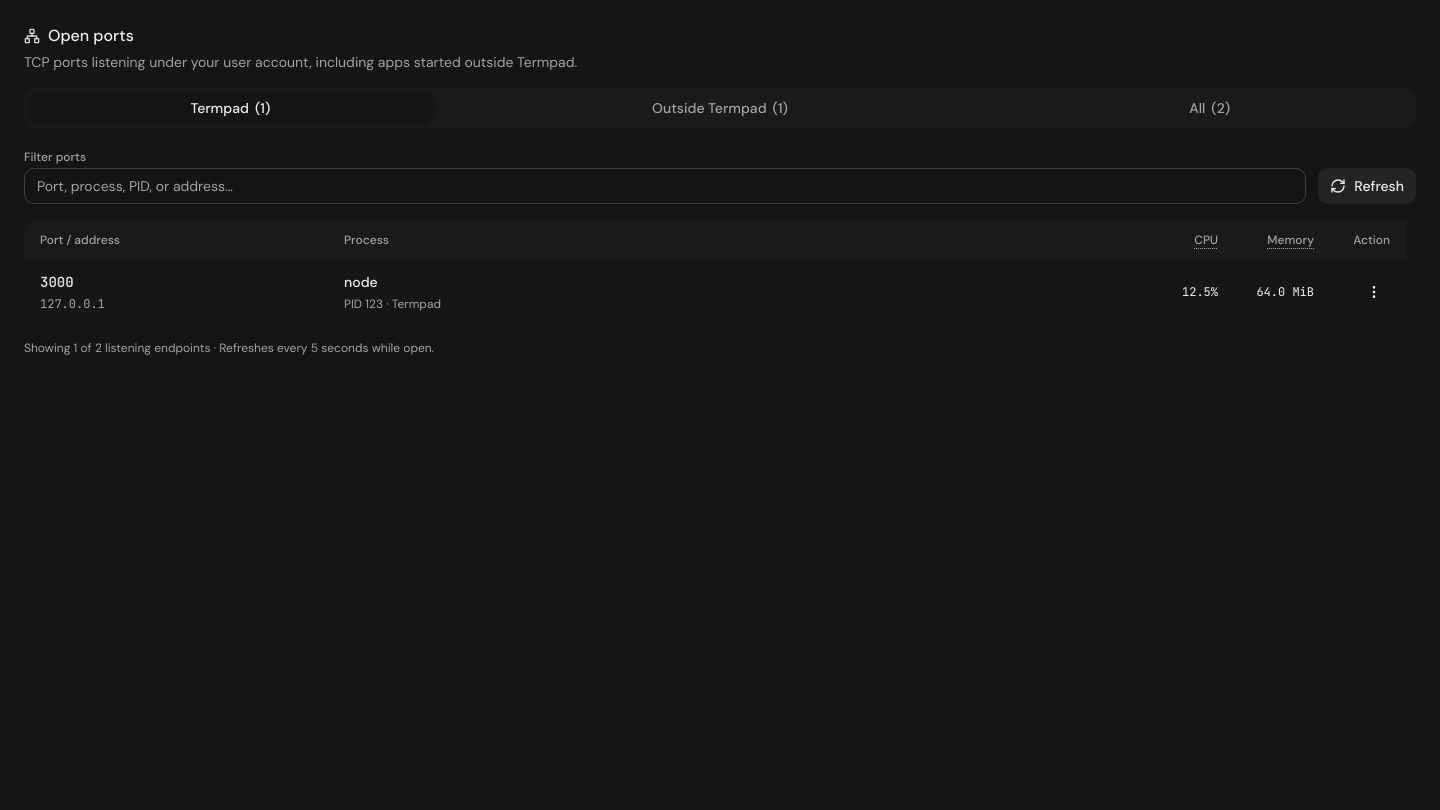
Open ports › keeps the terminal open when stopping fails
This screenshot has width=1440, height=810.
Press Enter in the button named "Actions for node on port 3000 (PID 123)", box [1358,276,1390,308]
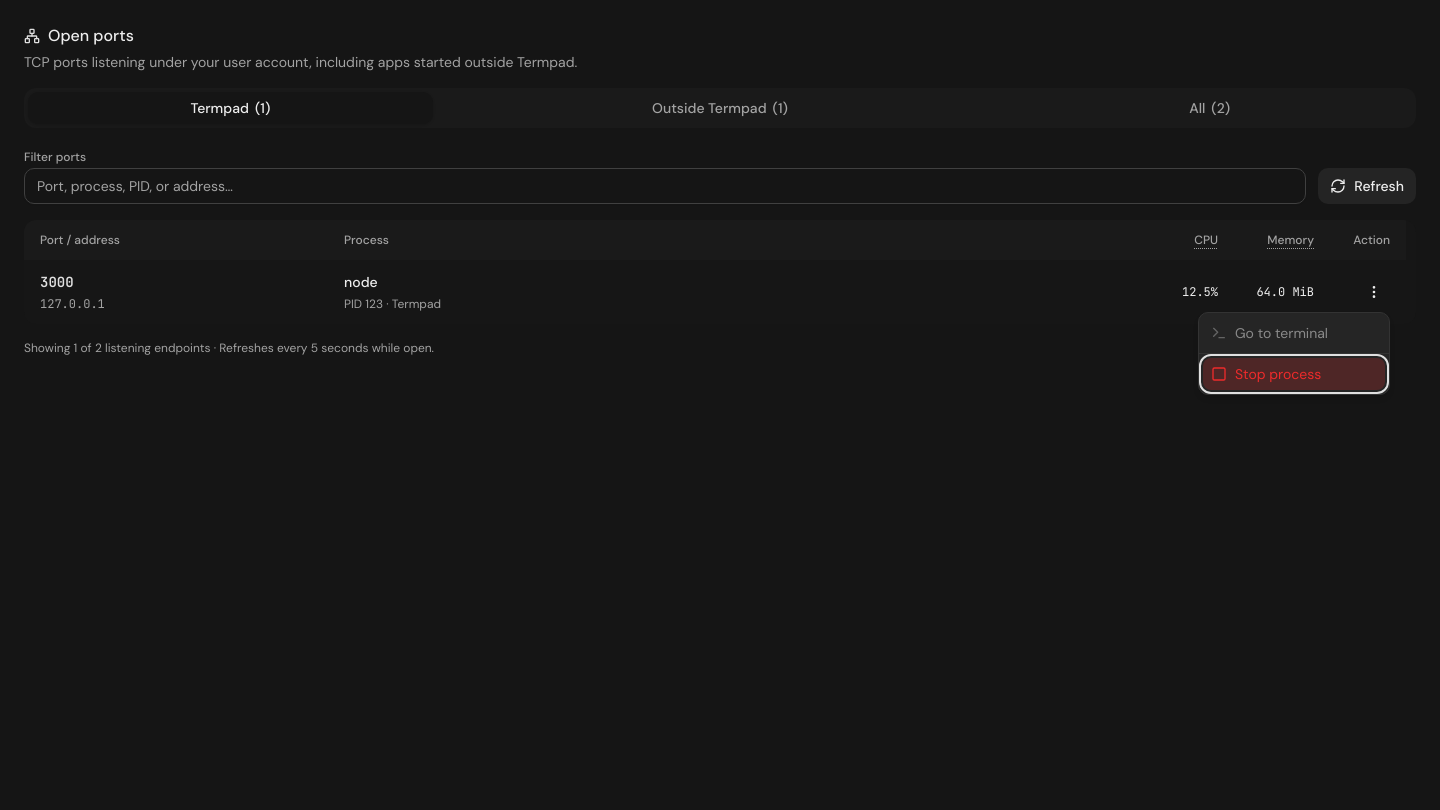
Result: the menu is shown at [1198,312,1390,395]
Click the menu item "Stop process": (1294, 374) [1203,358,1385,390]
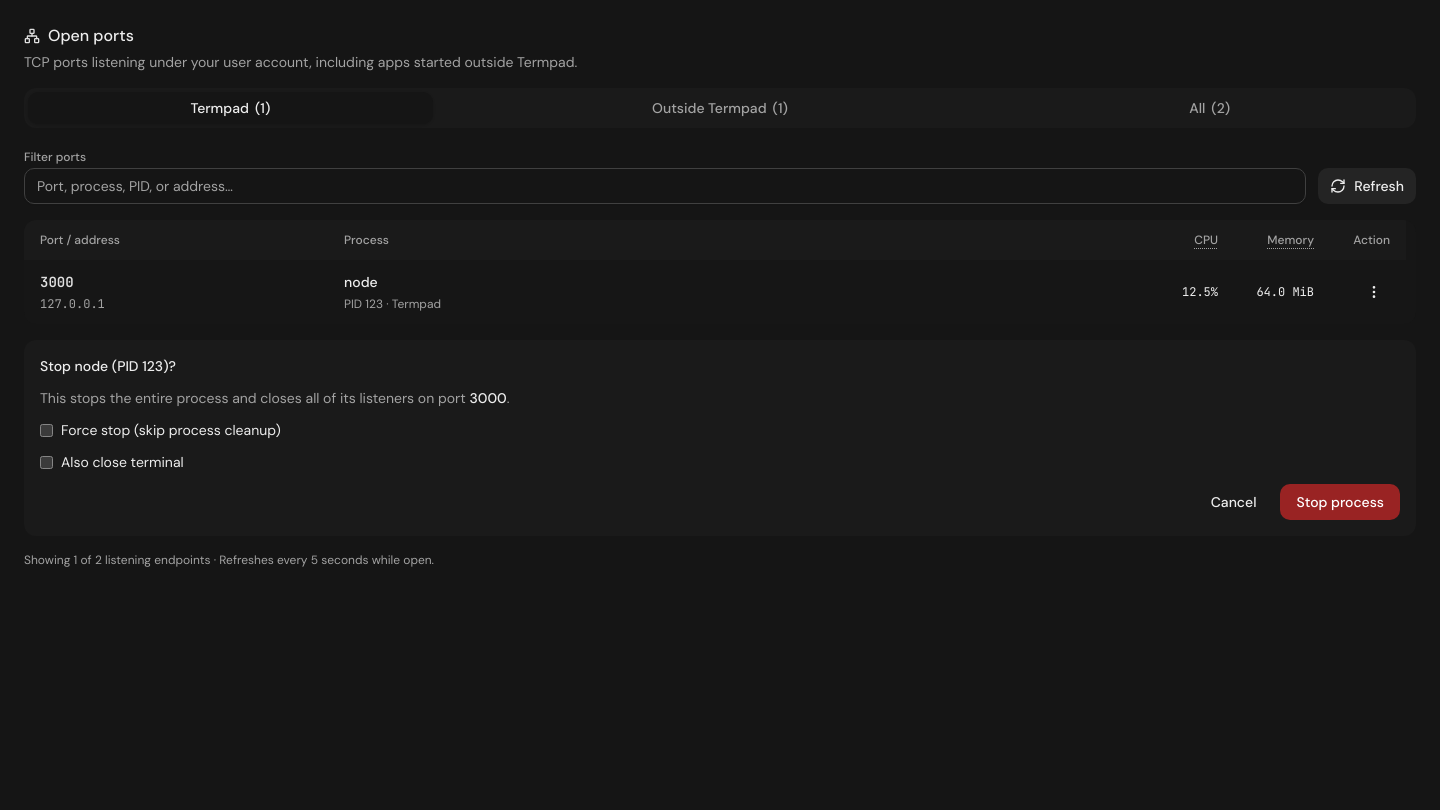
Click the checkbox labelled "Also close terminal": (46, 462) [40,456,53,468]
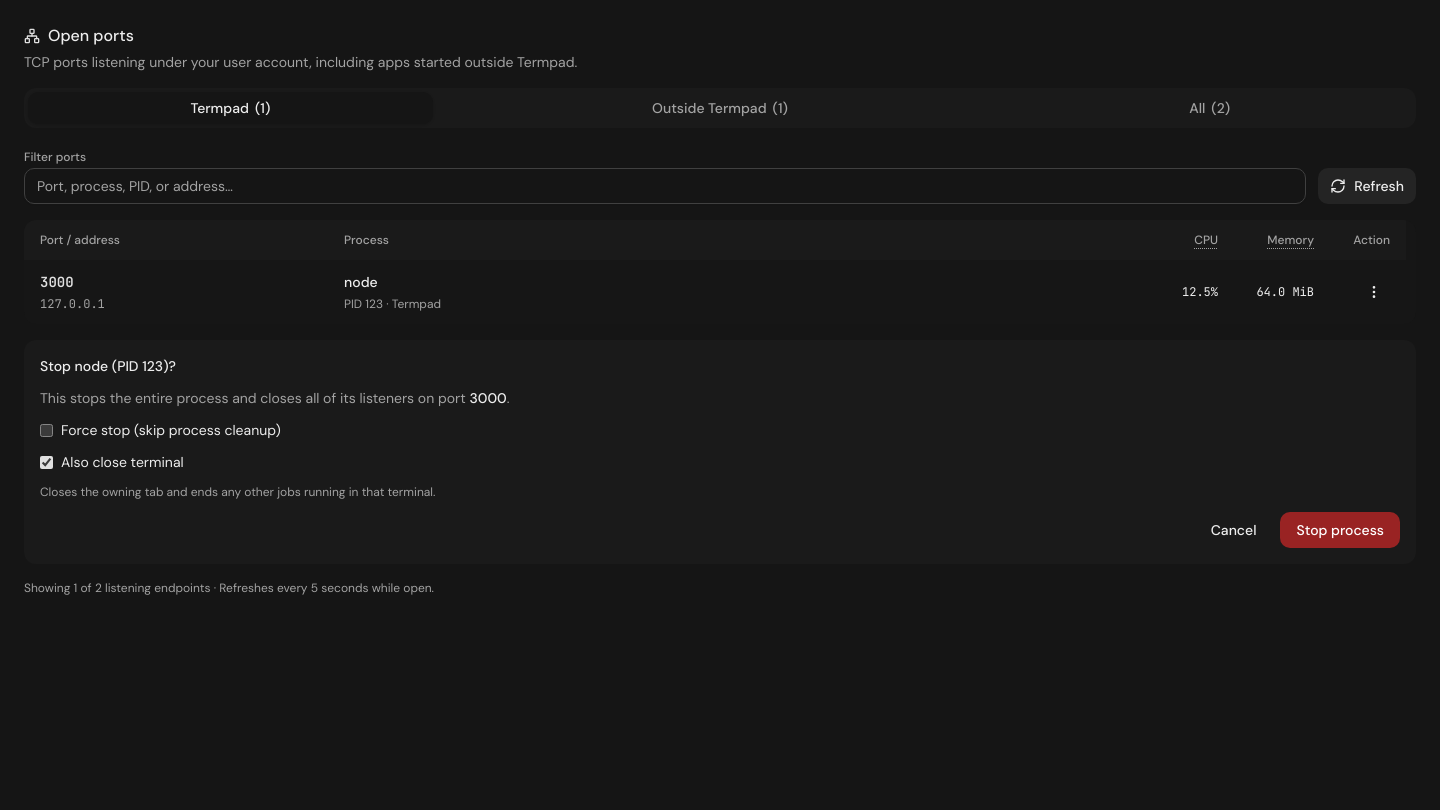
Click the button "Stop process": (1340, 530) [1280,512,1400,548]
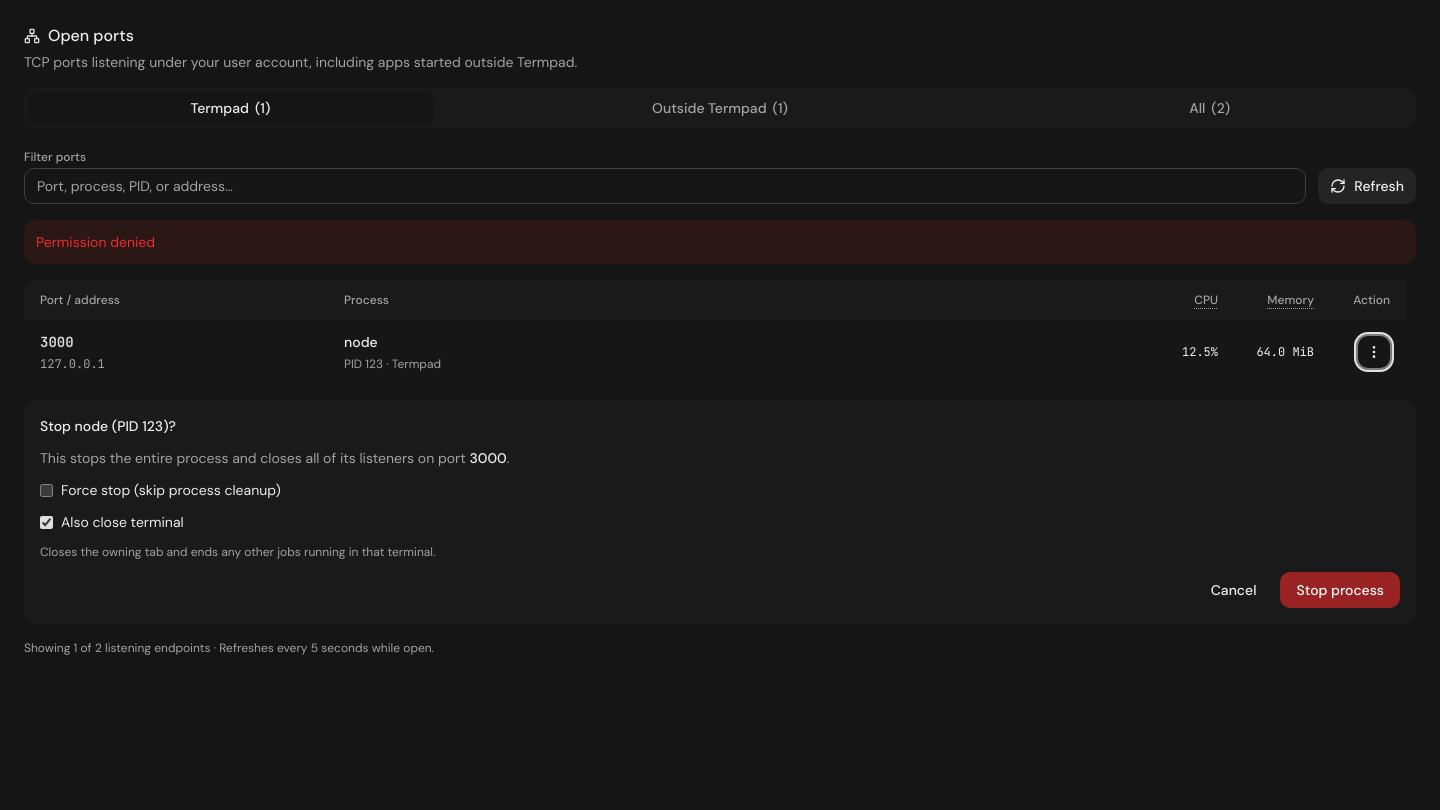
Result: the message reads "Permission denied" at [36,233,155,251]
